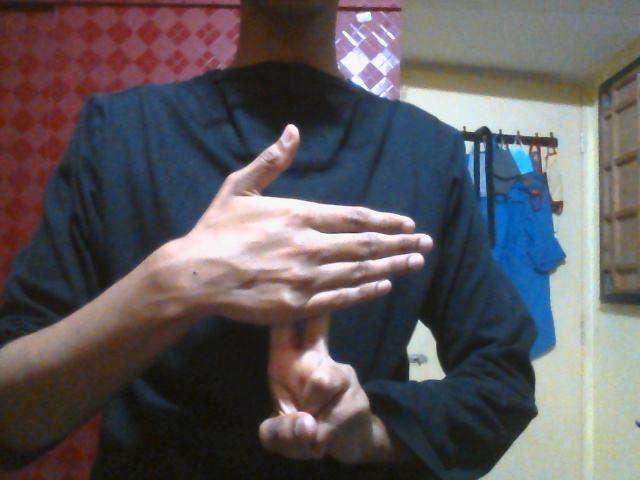N: (191, 123, 431, 465)
